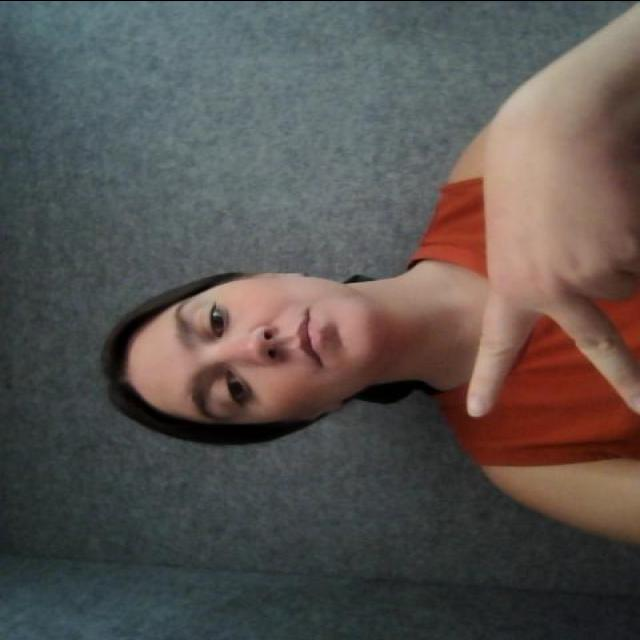Scissors: (378, 129, 640, 480)
